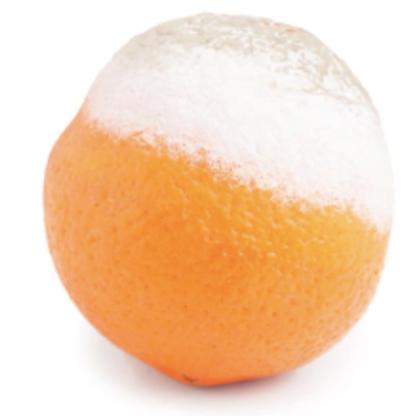rotten: (45, 12, 397, 387)
